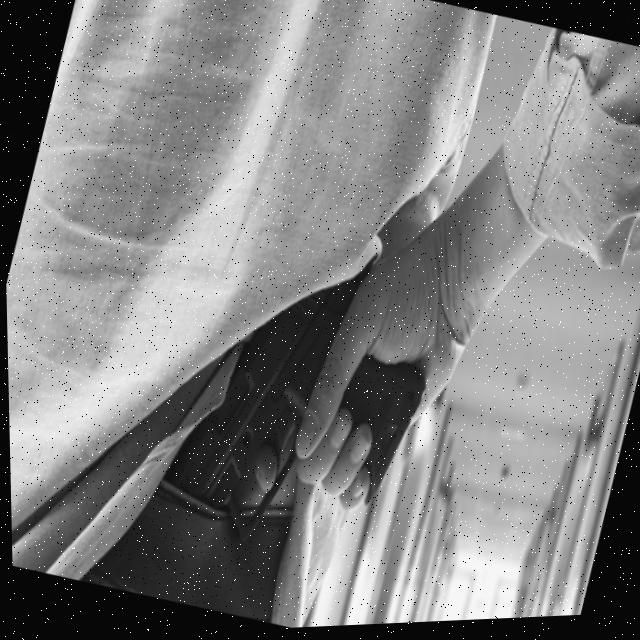pistol: (149, 219, 381, 567)
